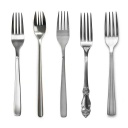Fork: (101, 3, 125, 128), (52, 2, 72, 124), (6, 8, 25, 119), (77, 4, 94, 126), (30, 7, 48, 120)
